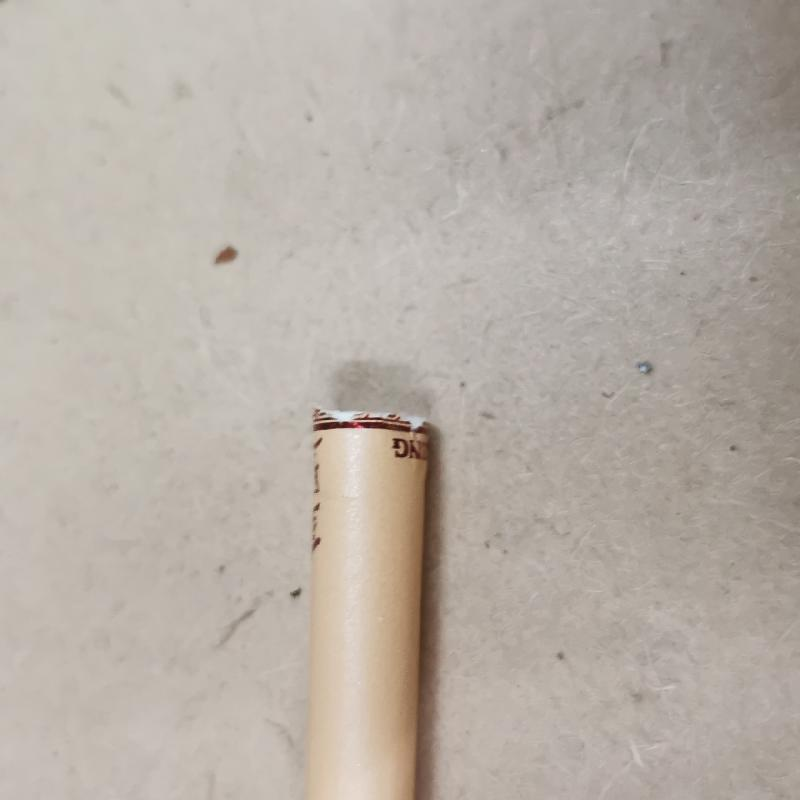cigarette: (283, 399, 446, 799)
